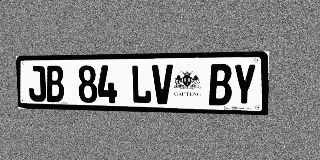4: (97, 65, 117, 103)
8: (78, 65, 97, 103)
B: (209, 64, 232, 106), (45, 65, 64, 102)
J: (28, 66, 46, 102)
L: (131, 65, 151, 104)
V: (152, 64, 173, 104)
Y: (232, 64, 256, 106)
